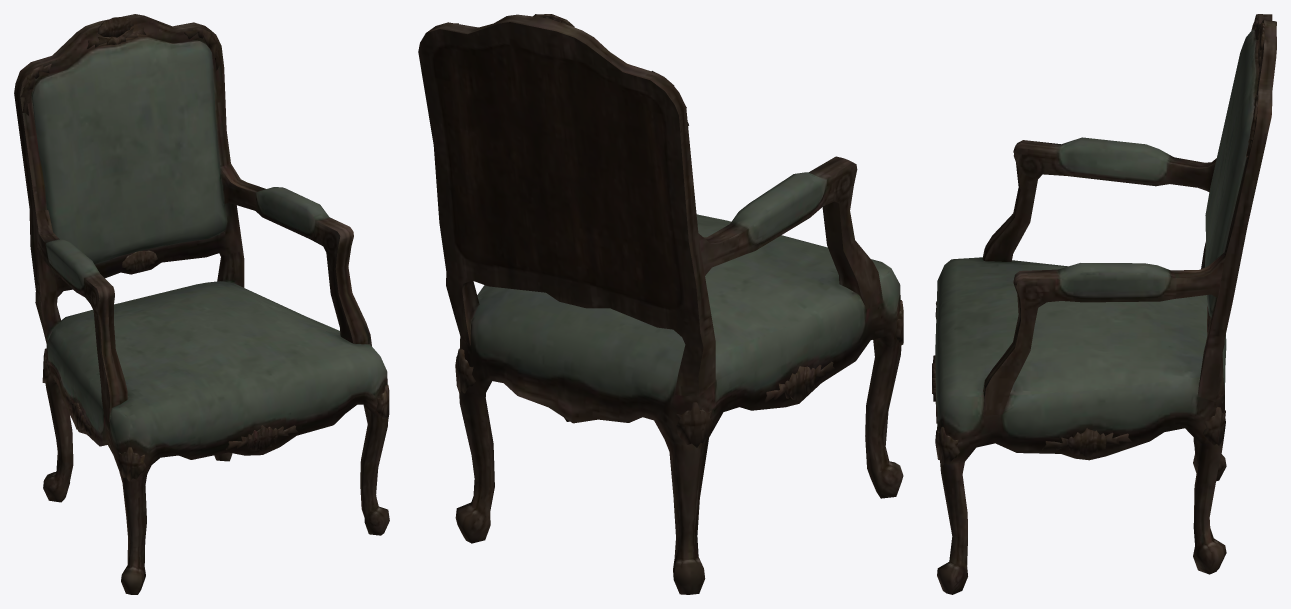
Rendered from GreenChair_01.lite.glb.
3 views of the same model, side by side, from view 1: azimuth 30°, elevation 25°; view 2: azimuth 150°, elevation 25°; view 3: azimuth 270°, elevation 25° (orthographic). The views are drawn at different scales.
Visible parts, largest first — view 1: GreenChair_01; view 2: GreenChair_01; view 3: GreenChair_01.
Boxes of the visible parts, box(x1,y1,x2,y2) form: GreenChair_01: box(14, 14, 389, 594); GreenChair_01: box(418, 14, 903, 594); GreenChair_01: box(932, 14, 1276, 594).
Size of the model in its own units: 0.6715 by 1.06 by 0.6644.
Materials: 1 (1 with a texture image).
